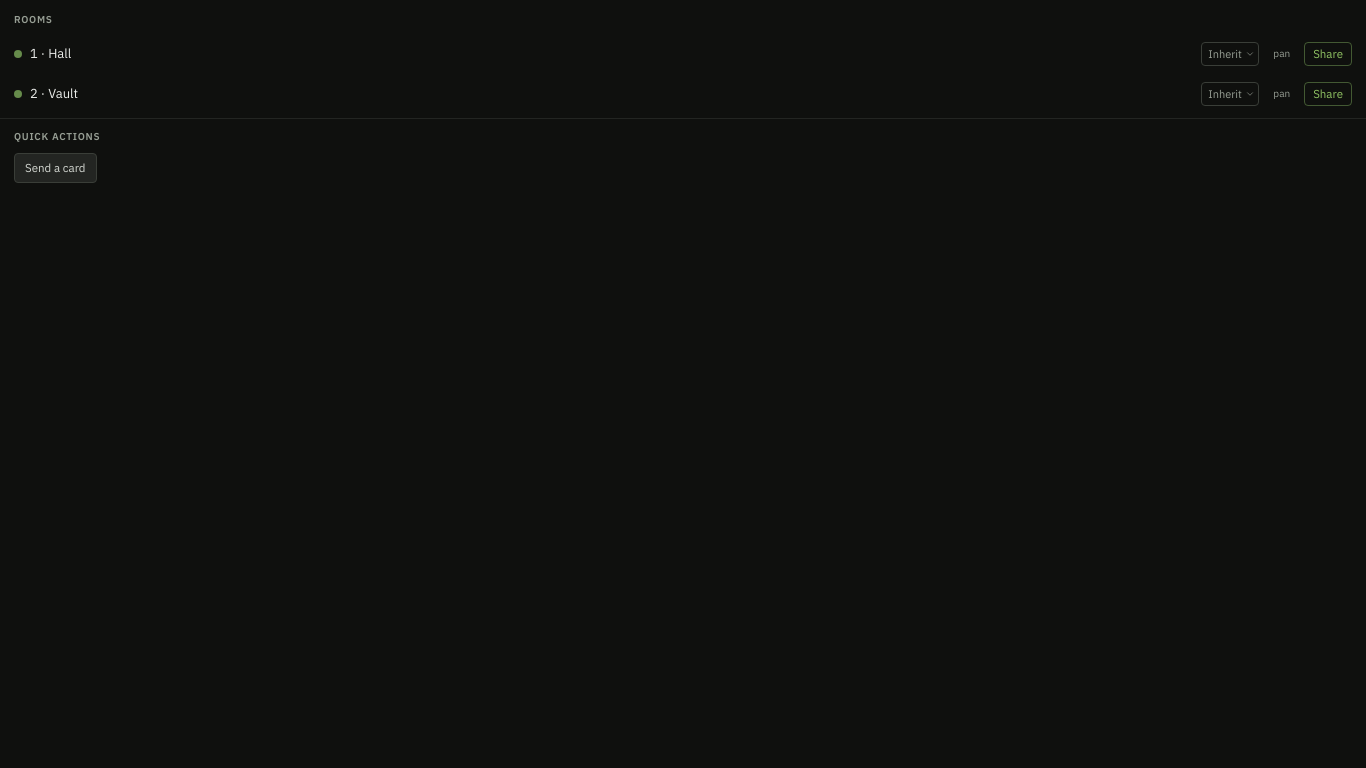
Test case: room keys (prep v3) › offers a second wave once spawned, and refuses an encounter the server marked inert
Click the button "1 · Hall": (51, 54) [30,40,1193,68]
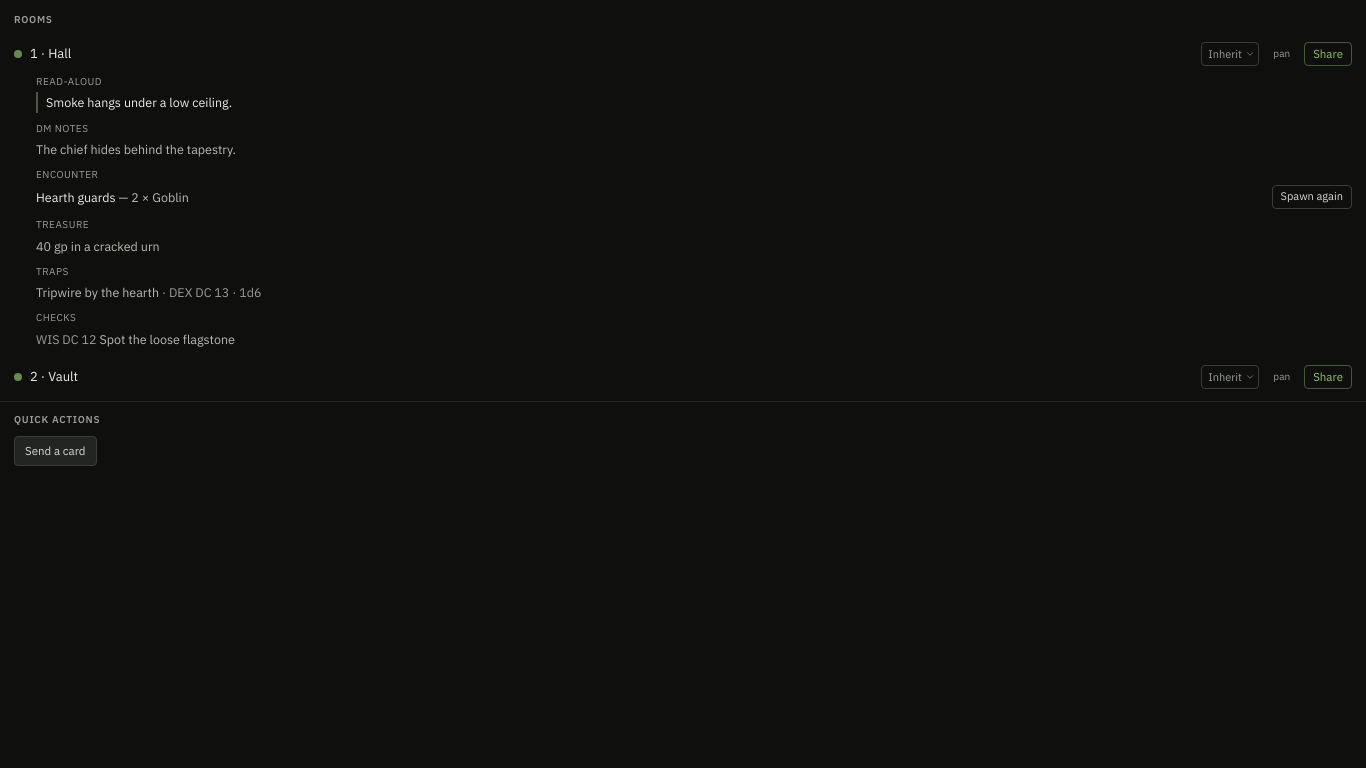
Click the button "2 · Vault": (54, 376) [30,363,1193,391]
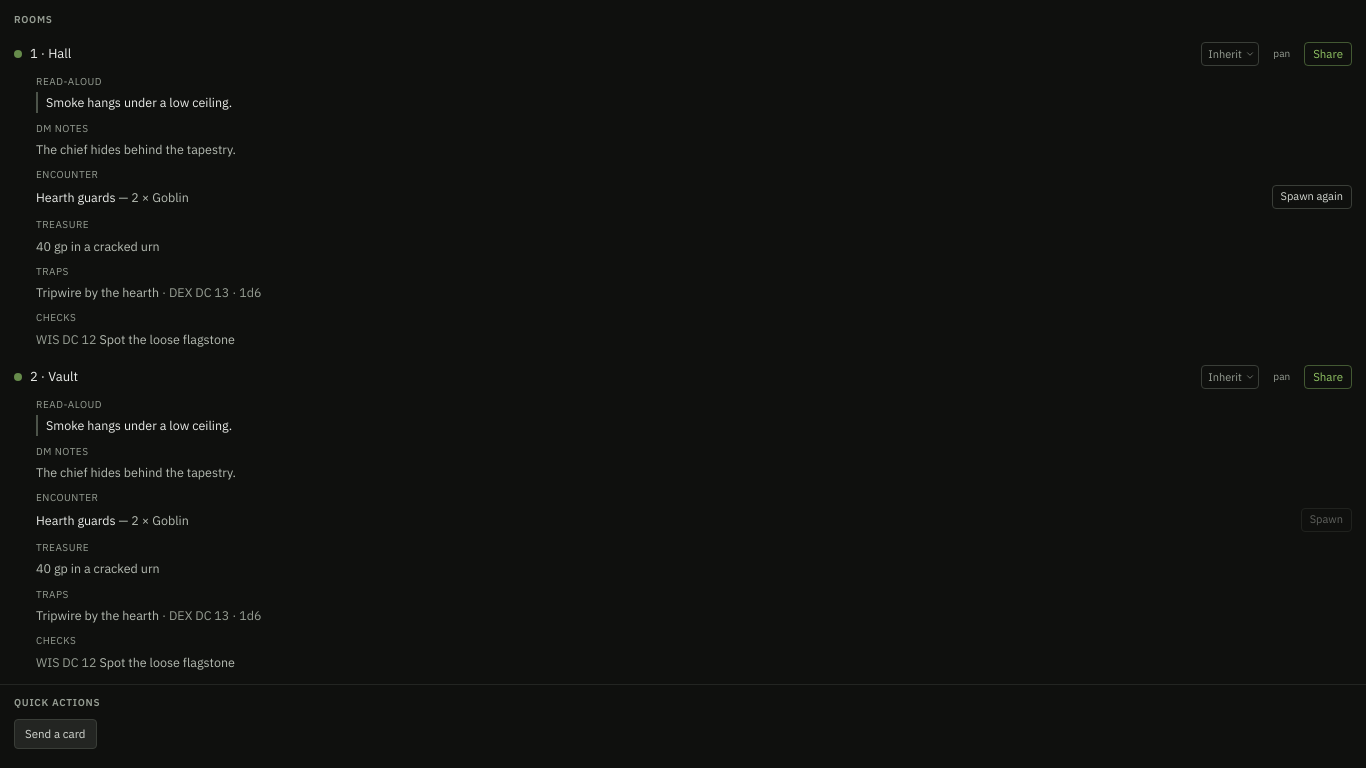
Check: the button with aria-label "Spawn encounter: 1 · Hall" reads "Spawn again", box [1272,185,1352,209]
Check: the button with aria-label "Spawn encounter: 2 · Vault" is disabled, box [1301,508,1352,532]
